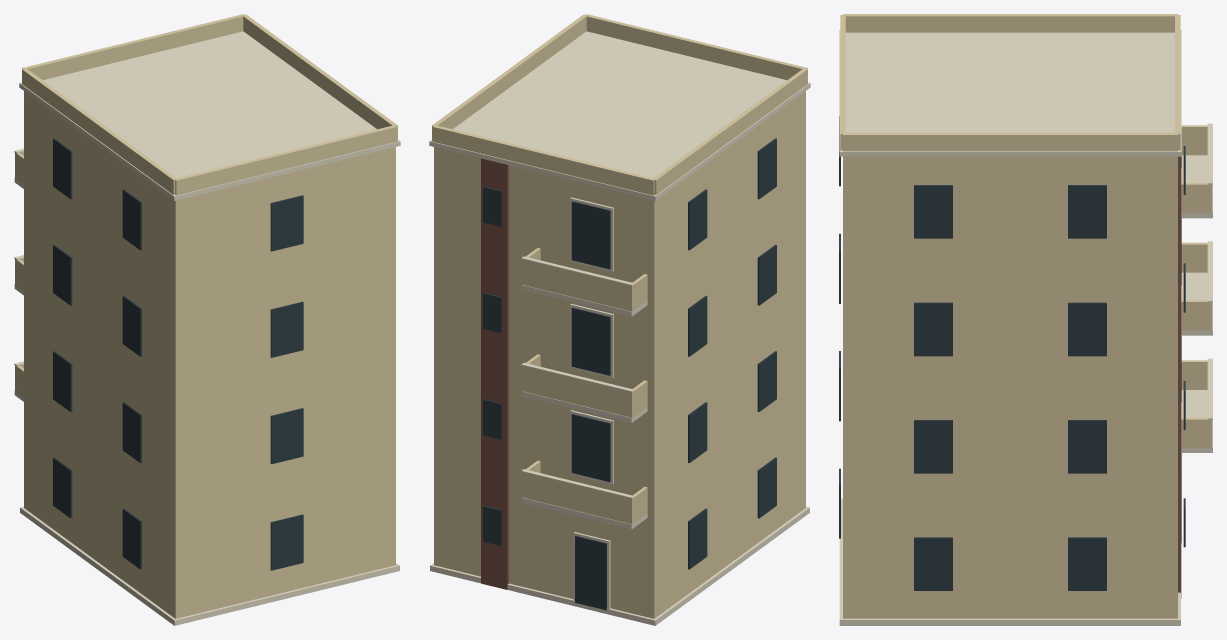
File: KOL_T3_MOD_02.fbx
3 views of the same model, side by side, from view 1: azimuth 30°, elevation 25°; view 2: azimuth 150°, elevation 25°; view 3: azimuth 270°, elevation 25° (orthographic). The views are drawn at different scales.
Parts seen in each view (by area): view 1: KOL_T3_MOD_02__Body, KOL_T3_MOD_02__Trim, KOL_T3_MOD_02__Dark; view 2: KOL_T3_MOD_02__Body, KOL_T3_MOD_02__Trim, KOL_T3_MOD_02__Dark, KOL_T3_MOD_02__Accent; view 3: KOL_T3_MOD_02__Body, KOL_T3_MOD_02__Trim, KOL_T3_MOD_02__Dark, KOL_T3_MOD_02__Accent.
Boxes of the visible parts, x1,y1,x2,y2 form: KOL_T3_MOD_02__Body: [15, 14, 397, 618]; KOL_T3_MOD_02__Trim: [14, 31, 400, 625]; KOL_T3_MOD_02__Dark: [53, 138, 303, 570]; KOL_T3_MOD_02__Body: [432, 14, 807, 618]; KOL_T3_MOD_02__Trim: [429, 31, 810, 625]; KOL_T3_MOD_02__Dark: [483, 138, 776, 610]; KOL_T3_MOD_02__Accent: [481, 158, 508, 589]; KOL_T3_MOD_02__Body: [840, 14, 1212, 618]; KOL_T3_MOD_02__Trim: [839, 30, 1212, 625]; KOL_T3_MOD_02__Dark: [839, 116, 1185, 590]; KOL_T3_MOD_02__Accent: [1178, 156, 1181, 598].
Bounding box in the file's own units: 26.74 × 50.15 × 34.62.
